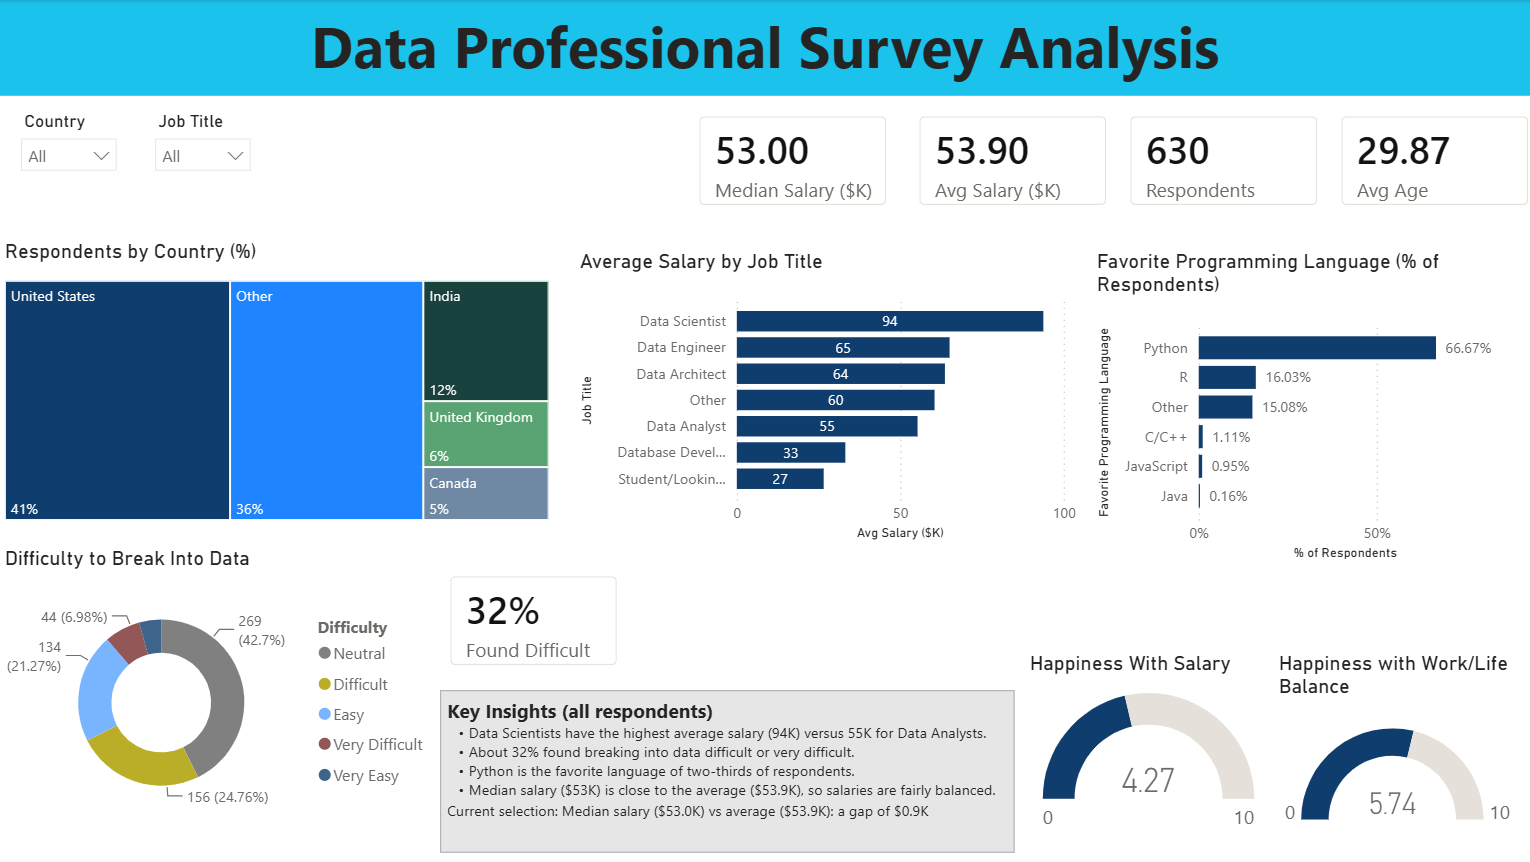

This screenshot's page, from the dashboard's own definition file:
{"tool":"powerbi","page":{"name":"Page 1","canvas":[1280,720],"ordinal":0},"visuals":[{"type":"textbox","box":[0,0,1280,80],"z":0},{"type":"cardVisual","fields":{"Data":["Data Professional Survey.Avg Age"]},"box":[1104,80,190,108],"z":1000},{"type":"cardVisual","fields":{"Data":["Data Professional Survey.Respondents"]},"box":[928,80,190,108],"z":2000},{"type":"barChart","title":"Average Salary by Job Title ","fields":{"Category":["Data Professional Survey.Q1 - Which Title Best Fits your Current Role?.1"],"Series":["Data Professional Survey.Q1 - Which Title Best Fits your Current Role?.1"],"Y":["Data Professional Survey.Avg Salary"]},"box":[480,208,424,248],"z":3000},{"type":"clusteredBarChart","title":"Favorite Programming Language (% of Respondents)","fields":{"Category":["Data Professional Survey.Q5 - Favorite Programming Language.1"],"Y":["CountNonNull(Data Professional Survey.Unique ID)"]},"box":[912,208,352,264],"z":4000},{"type":"treemap","title":"Respondents by Country (%)","fields":{"Group":["Data Professional Survey.Q11 - Which Country do you live in?.1"],"Values":["CountNonNull(Data Professional Survey.Q11 - Which Country do you live in?.1)"]},"box":[0,200,464,240],"z":5000},{"type":"gauge","title":"Happiness with Work/Life Balance","fields":{"MinValue":["Min(Data Professional Survey.Q6 - How Happy are you in your Current Position with the following? (Work/Life Balance))1"],"MaxValue":["Max(Data Professional Survey.Q6 - How Happy are you in your Current Position with the following? (Work/Life Balance))2"],"Y":["Data Professional Survey.Avg Happy Worklife"]},"box":[1064,544,208,160],"z":6000},{"type":"gauge","title":"Happiness With Salary","fields":{"MinValue":["Min(Data Professional Survey.Q6 - How Happy are you in your Current Position with the following? (Salary))1"],"MaxValue":["Max(Data Professional Survey.Q6 - How Happy are you in your Current Position with the following? (Salary))2"],"Y":["Data Professional Survey.Avg Happy Salary"]},"box":[856,544,208,160],"z":7000},{"type":"donutChart","title":"Difficulty to Break Into Data","fields":{"Category":["Data Professional Survey.Q7 - How difficult was it for you to break into Data?"],"Y":["CountNonNull(Data Professional Survey.Q7 - How difficult was it for you to break into Data?)"]},"box":[0,456,368,232],"z":8000},{"type":"slicer","fields":{"Values":["Data Professional Survey.Job Title"]},"box":[120,88,100,60],"z":9000},{"type":"cardVisual","fields":{"Data":["Data Professional Survey.Avg Salary"]},"box":[752,80,190,108],"z":10000},{"type":"cardVisual","fields":{"Data":["Data Professional Survey.Median Salary"]},"box":[568,80,190,108],"z":11000},{"type":"slicer","fields":{"Values":["Data Professional Survey.Country"]},"box":[8,88,100,60],"z":12000},{"type":"cardVisual","fields":{"Data":["Data Professional Survey.% Found Difficult"]},"box":[360,464,173,108],"z":13000},{"type":"textbox","box":[368,576,480,136],"z":14000}]}

Visuals, with their boxes in screenshot pixels (x1, y1, x2, y2), scaled from the page's 1280x720 canvas onto the 1530x862 screenshot:
textbox: bbox(0, 0, 1529, 96)
cardVisual - Data Professional Survey.Avg Age: bbox(1320, 96, 1529, 225)
cardVisual - Data Professional Survey.Respondents: bbox(1109, 96, 1336, 225)
"Average Salary by Job Title " barChart: bbox(574, 249, 1081, 546)
"Favorite Programming Language (% of Respondents)" clusteredBarChart: bbox(1090, 249, 1511, 565)
"Respondents by Country (%)" treemap: bbox(0, 239, 555, 527)
"Happiness with Work/Life Balance" gauge: bbox(1272, 651, 1520, 843)
"Happiness With Salary" gauge: bbox(1023, 651, 1272, 843)
"Difficulty to Break Into Data" donutChart: bbox(0, 546, 440, 824)
slicer - Data Professional Survey.Job Title: bbox(143, 105, 263, 177)
cardVisual - Data Professional Survey.Avg Salary: bbox(899, 96, 1126, 225)
cardVisual - Data Professional Survey.Median Salary: bbox(679, 96, 906, 225)
slicer - Data Professional Survey.Country: bbox(10, 105, 129, 177)
cardVisual - Data Professional Survey.% Found Difficult: bbox(430, 556, 637, 685)
textbox: bbox(440, 690, 1014, 852)
